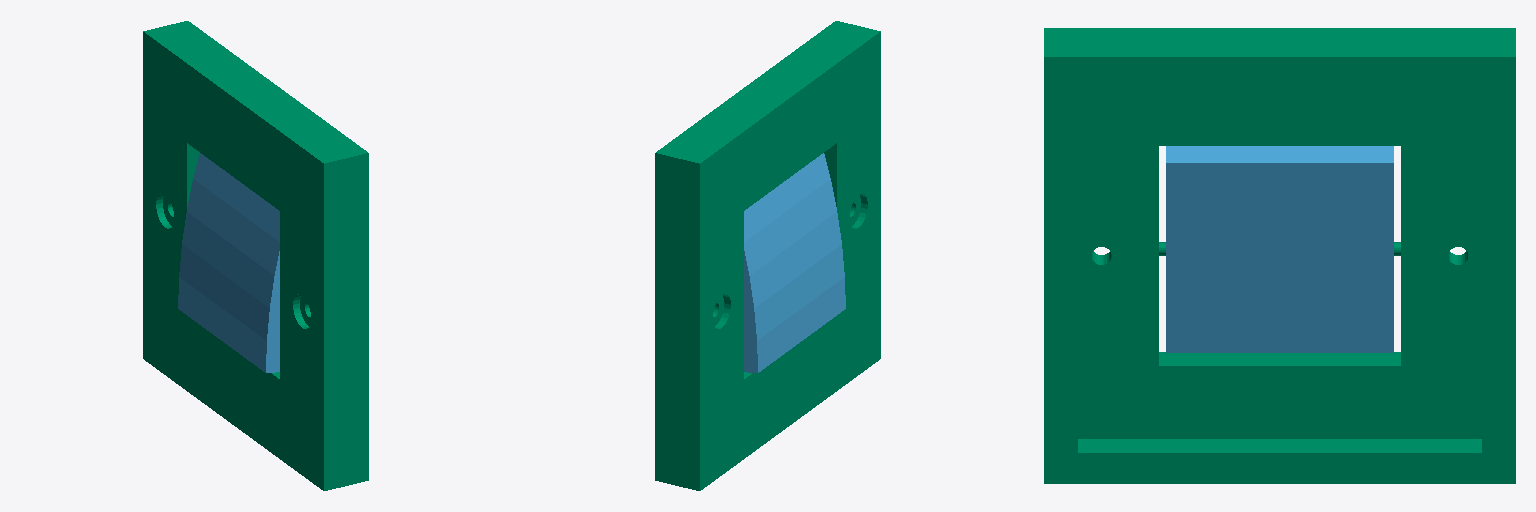
URDF robot description (partnet_uad4c133a-7639-49df-857e-a13874d5b4c7):
<?xml version="1.0" ?>
<robot name="partnet_uad4c133a-7639-49df-857e-a13874d5b4c7">
	<link name="base"/>
	<link name="link_0">
		<visual name="switch-1">
			<origin xyz="-0.3729980000000004 0.016618608113665945 -0.06561515301250509"/>
			<geometry>
				<mesh filename="textured_objs/original-12.obj"/>
			</geometry>
		</visual>
		<collision>
			<origin xyz="-0.3729980000000004 0.016618608113665945 -0.06561515301250509"/>
			<geometry>
				<mesh filename="textured_objs/original-12.obj"/>
			</geometry>
		</collision>
	</link>
	<joint name="joint_0" type="revolute">
		<origin xyz="0.3729980000000004 -0.016618608113665945 0.06561515301250509"/>
		<axis xyz="1 0 0"/>
		<child link="link_0"/>
		<parent link="link_1"/>
		<limit lower="0.0" upper="0.3141592653589793"/>
	</joint>
	<link name="link_1">
		<visual name="base_body-2">
			<origin xyz="0 0 0"/>
			<geometry>
				<mesh filename="textured_objs/original-4.obj"/>
			</geometry>
		</visual>
		<visual name="base_body-2">
			<origin xyz="0 0 0"/>
			<geometry>
				<mesh filename="textured_objs/original-3.obj"/>
			</geometry>
		</visual>
		<visual name="base_body-2">
			<origin xyz="0 0 0"/>
			<geometry>
				<mesh filename="textured_objs/original-2.obj"/>
			</geometry>
		</visual>
		<visual name="base_body-2">
			<origin xyz="0 0 0"/>
			<geometry>
				<mesh filename="textured_objs/original-8.obj"/>
			</geometry>
		</visual>
		<visual name="base_body-2">
			<origin xyz="0 0 0"/>
			<geometry>
				<mesh filename="textured_objs/original-9.obj"/>
			</geometry>
		</visual>
		<visual name="base_body-2">
			<origin xyz="0 0 0"/>
			<geometry>
				<mesh filename="textured_objs/original-5.obj"/>
			</geometry>
		</visual>
		<visual name="base_body-2">
			<origin xyz="0 0 0"/>
			<geometry>
				<mesh filename="textured_objs/original-6.obj"/>
			</geometry>
		</visual>
		<visual name="base_body-2">
			<origin xyz="0 0 0"/>
			<geometry>
				<mesh filename="textured_objs/original-11.obj"/>
			</geometry>
		</visual>
		<visual name="base_body-2">
			<origin xyz="0 0 0"/>
			<geometry>
				<mesh filename="textured_objs/original-7.obj"/>
			</geometry>
		</visual>
		<collision>
			<origin xyz="0 0 0"/>
			<geometry>
				<mesh filename="textured_objs/original-4.obj"/>
			</geometry>
		</collision>
		<collision>
			<origin xyz="0 0 0"/>
			<geometry>
				<mesh filename="textured_objs/original-3.obj"/>
			</geometry>
		</collision>
		<collision>
			<origin xyz="0 0 0"/>
			<geometry>
				<mesh filename="textured_objs/original-2.obj"/>
			</geometry>
		</collision>
		<collision>
			<origin xyz="0 0 0"/>
			<geometry>
				<mesh filename="textured_objs/original-8.obj"/>
			</geometry>
		</collision>
		<collision>
			<origin xyz="0 0 0"/>
			<geometry>
				<mesh filename="textured_objs/original-9.obj"/>
			</geometry>
		</collision>
		<collision>
			<origin xyz="0 0 0"/>
			<geometry>
				<mesh filename="textured_objs/original-5.obj"/>
			</geometry>
		</collision>
		<collision>
			<origin xyz="0 0 0"/>
			<geometry>
				<mesh filename="textured_objs/original-6.obj"/>
			</geometry>
		</collision>
		<collision>
			<origin xyz="0 0 0"/>
			<geometry>
				<mesh filename="textured_objs/original-11.obj"/>
			</geometry>
		</collision>
		<collision>
			<origin xyz="0 0 0"/>
			<geometry>
				<mesh filename="textured_objs/original-7.obj"/>
			</geometry>
		</collision>
	</link>
	<joint name="joint_1" type="fixed">
		<origin rpy="1.570796326794897 0 -1.570796326794897" xyz="0 0 0"/>
		<child link="link_1"/>
		<parent link="base"/>
	</joint>
</robot>

--- What the picture shows (computed from the rendered views, not written in the file) ---
The picture shows the robot from 3 angles, left to right: view 1: azimuth 30°, elevation 25°; view 2: azimuth 150°, elevation 25°; view 3: azimuth 270°, elevation 25°; orthographic projection.
Robot: partnet_uad4c133a-7639-49df-857e-a13874d5b4c7 — 3 links, 2 joints (1 revolute, 1 fixed); root link base; default pose: all joints at 0.
Links seen in each view (by area): view 1: link_1, link_0; view 2: link_1, link_0; view 3: link_1, link_0.
Boxes of the visible links, x1,y1,x2,y2 form: link_1: (143, 21, 368, 490); link_0: (178, 153, 279, 372); link_1: (655, 21, 880, 490); link_0: (744, 153, 845, 372); link_1: (1044, 28, 1515, 483); link_0: (1166, 146, 1393, 352).
Bounding box of the posed robot: 0.2502 × 1.39 × 1.39 m (x, y, z).
Meshes: 10 distinct files referenced, 10 mesh visuals loaded (10 OBJ).
